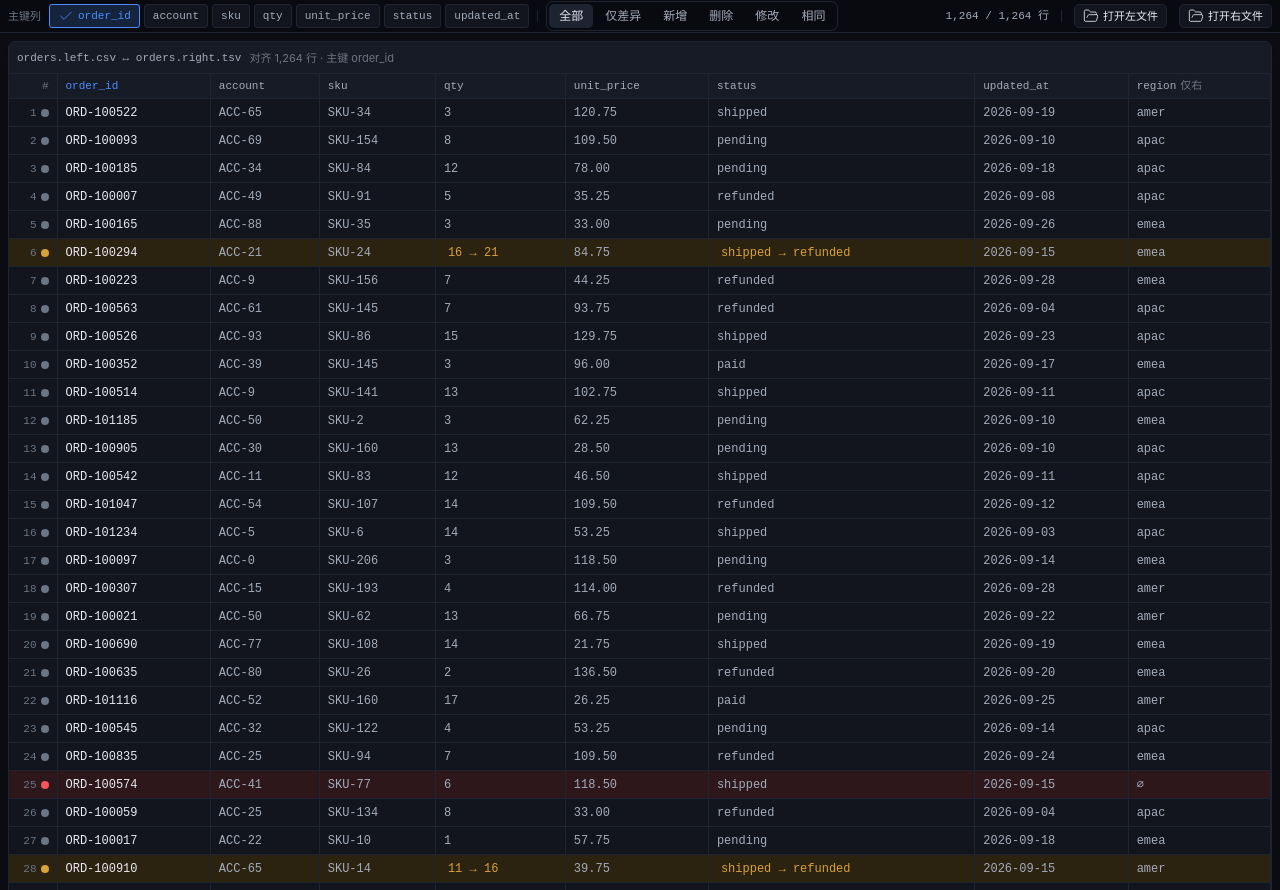
Test: CsvView › falls back to an empty state when the last key column is cleared
The image size is (1280, 890).
Click the button "order_id" at x=94, y=16, box x1=49 y1=4 x2=140 y2=28
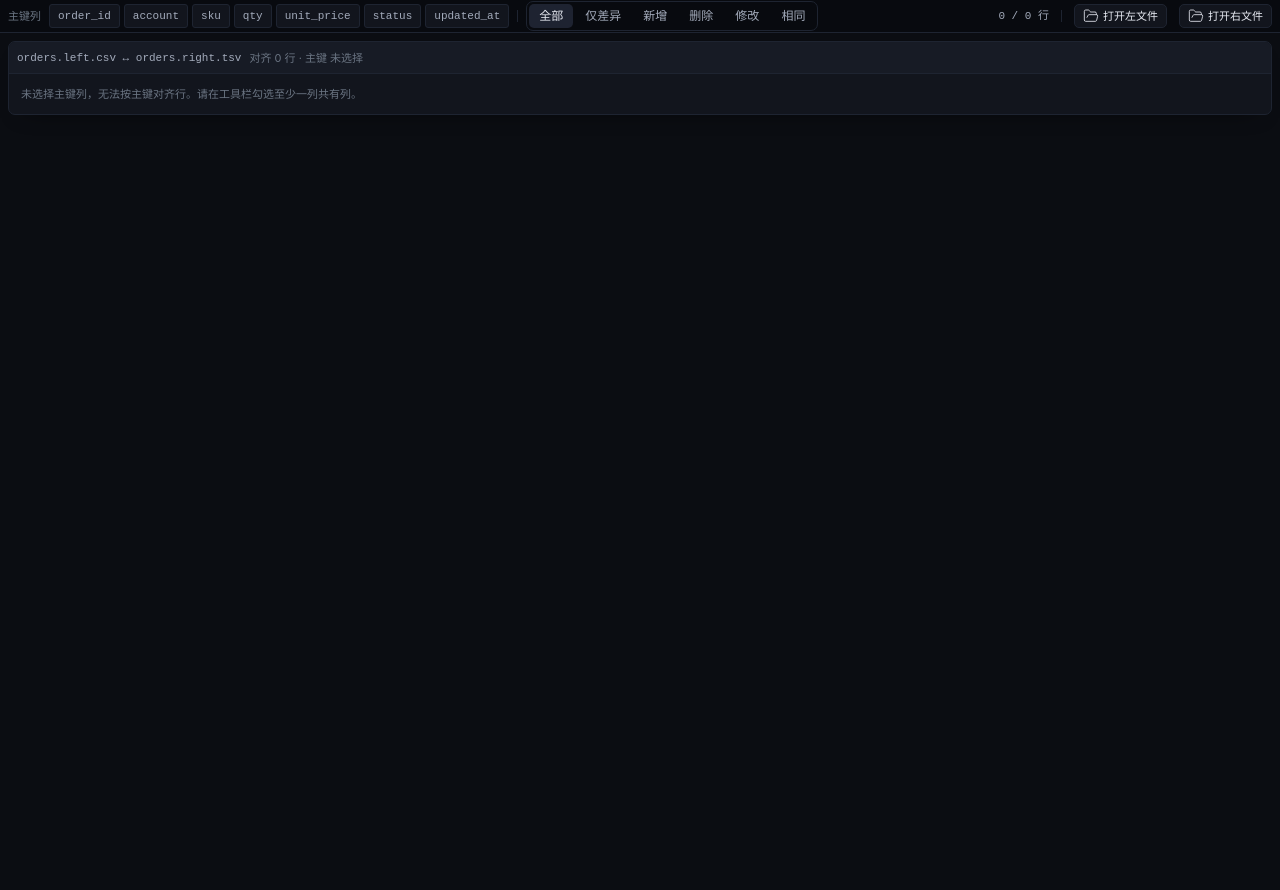
Expected: the text "未选择主键列，无法按主键对齐行。请在工具栏勾选至少一列共有列。" is shown, x1=21 y1=87 x2=362 y2=101
Expected: the text "0 / 0 行" is shown, x1=998 y1=8 x2=1049 y2=24
